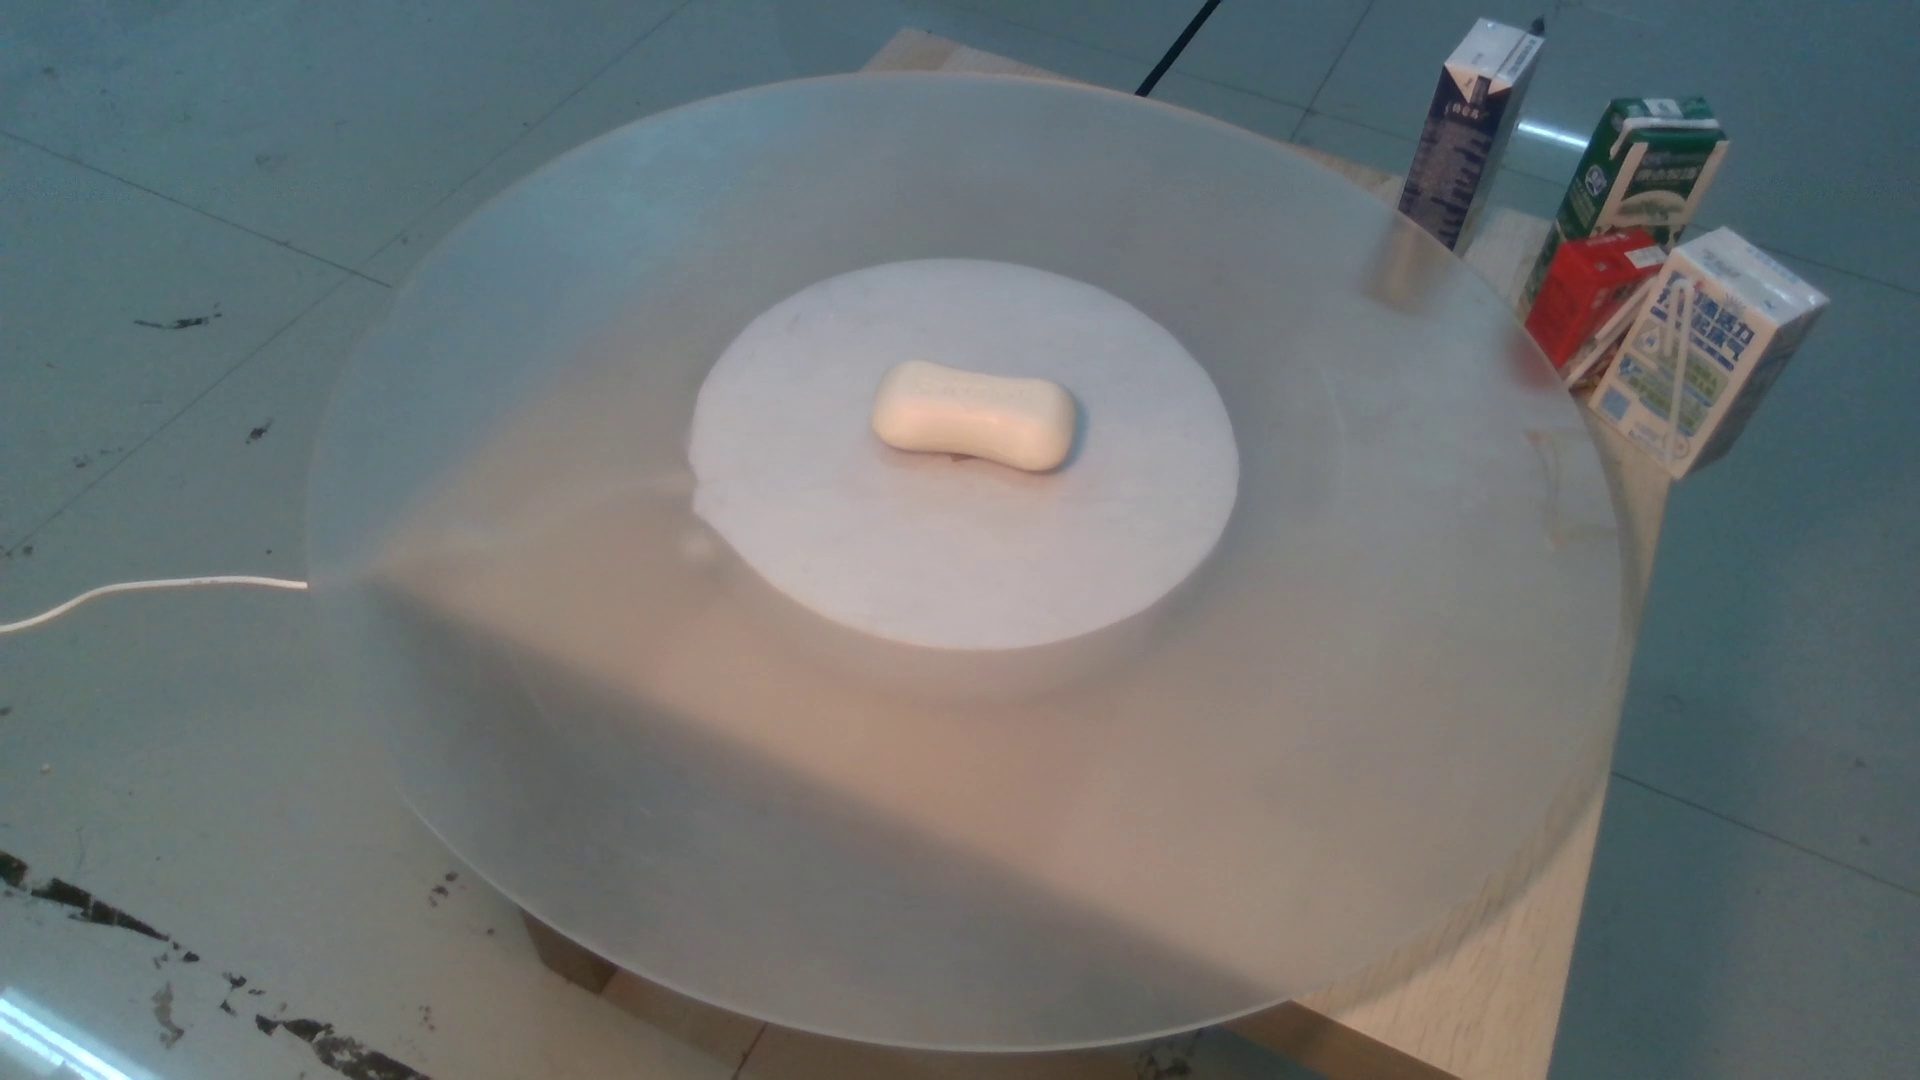CA003_1: (841, 349, 1127, 484)
